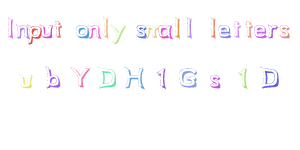1: (154, 66, 169, 90), (237, 67, 250, 89)
D: (97, 65, 118, 89), (259, 65, 280, 89)
G: (177, 67, 198, 89)
H: (123, 65, 146, 90)
I: (3, 13, 20, 40)
Y: (69, 65, 91, 87)
a: (157, 23, 173, 40)
b: (44, 64, 62, 88)
e: (217, 23, 232, 39), (254, 23, 268, 39)
l: (183, 14, 196, 40), (100, 15, 111, 38), (172, 14, 182, 39), (208, 15, 218, 40)
m: (143, 24, 162, 39)
n: (85, 21, 101, 39), (14, 22, 30, 39)
o: (74, 23, 90, 39)
p: (26, 23, 42, 47)
r: (266, 23, 278, 38)
s: (208, 73, 222, 89), (278, 23, 291, 39), (135, 23, 147, 39)
t: (231, 18, 242, 38), (243, 19, 253, 39), (54, 18, 62, 38)
u: (39, 21, 54, 40), (18, 72, 34, 87)
y: (110, 23, 126, 45)
